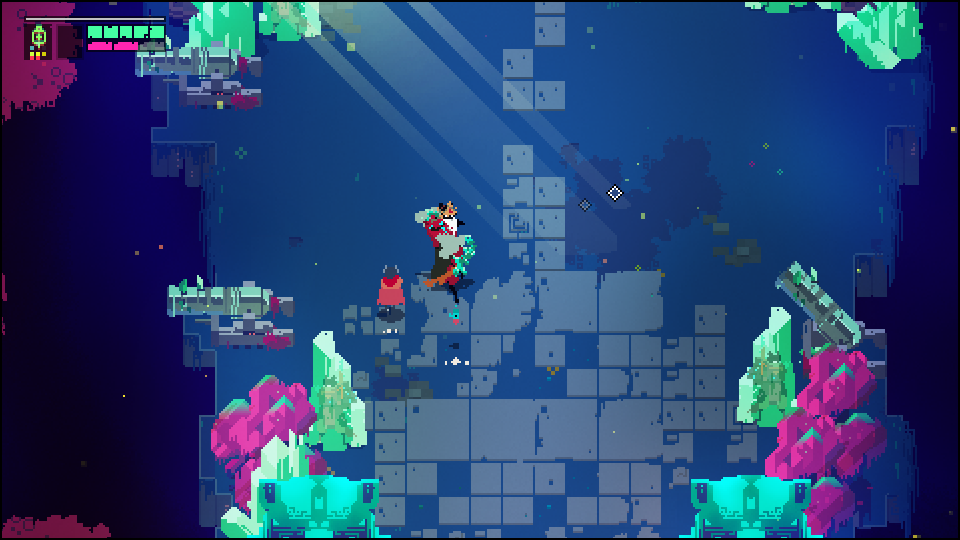hanged_man: (414, 201, 476, 303)
player: (376, 262, 407, 315)
